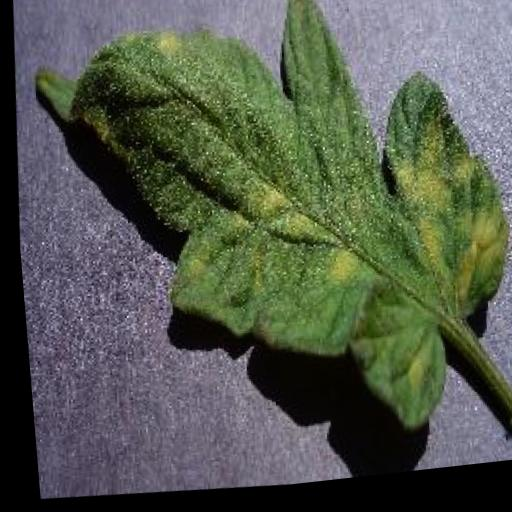Leaf Mold: (6, 0, 512, 472)
